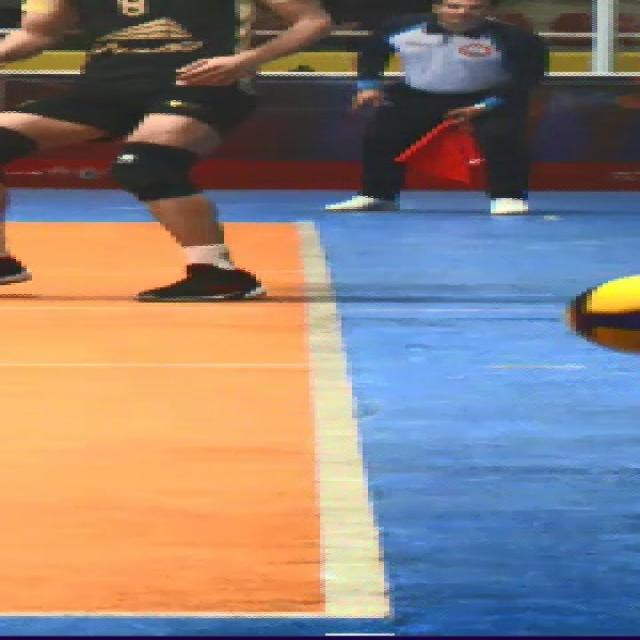Volleyball: (569, 272, 640, 353)
